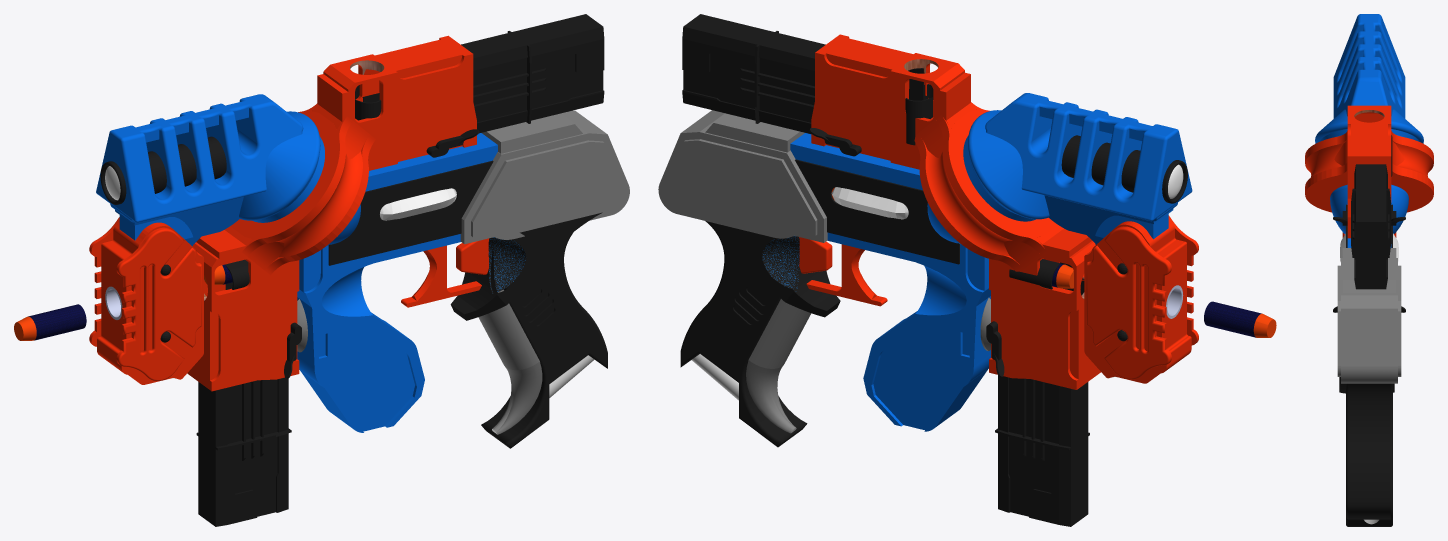
The model's file is flipwing.fbx.
3 views of the same model, side by side, from view 1: azimuth 30°, elevation 25°; view 2: azimuth 150°, elevation 25°; view 3: azimuth 270°, elevation 25° (orthographic). The views are drawn at different scales.
Visible parts, largest first — view 1: ID472, ID410, ID821, ID865 (×2), ID893 (×2), ID787, ID533, ID133, ID564, ID780, ID245, ID616 (+15 smaller); view 2: ID472, ID410, ID893 (×2), ID865 (×2), ID821, ID787, ID521, ID564, ID377, ID780, ID258, ID616 (+16 smaller); view 3: ID564, ID410, ID515, ID780, ID821, ID893, ID865, ID527, ID616, ID622, ID521, ID533 (+2 smaller).
Boxes of the visible parts, x1,y1,x2,y2 form: ID472: (297, 133, 497, 432); ID410: (96, 94, 303, 222); ID821: (312, 35, 476, 170); ID865 (×2): (207, 14, 594, 526); ID893 (×2): (196, 20, 604, 520); ID787: (187, 226, 299, 391); ID533: (471, 140, 625, 236); ID133: (116, 227, 201, 380); ID564: (481, 232, 607, 448); ID780: (230, 111, 368, 261); ID245: (328, 160, 493, 265); ID616: (239, 111, 324, 222); ID472: (790, 133, 990, 431); ID410: (985, 93, 1192, 221); ID893 (×2): (692, 14, 1079, 526); ID865 (×2): (682, 20, 1089, 520); ID821: (811, 34, 976, 169); ID787: (989, 225, 1100, 389); ID521: (663, 139, 817, 235); ID564: (680, 221, 807, 447); ID377: (1086, 226, 1171, 379); ID780: (919, 110, 1057, 260); ID258: (795, 159, 959, 264); ID616: (963, 110, 1049, 221); ID564: (1346, 383, 1392, 526); ID410: (1333, 14, 1405, 118); ID515: (1341, 258, 1397, 383); ID780: (1305, 137, 1433, 212); ID821: (1347, 105, 1391, 238); ID893: (1351, 164, 1386, 289); ID865: (1371, 135, 1392, 288); ID527: (1342, 248, 1396, 293); ID616: (1315, 109, 1423, 143); ID622: (1330, 184, 1408, 233); ID521: (1398, 265, 1401, 376); ID533: (1337, 265, 1340, 376).
Bounding box in the file's own units: 63.44 × 42.2 × 13.52.
17 materials, 2 textured.
